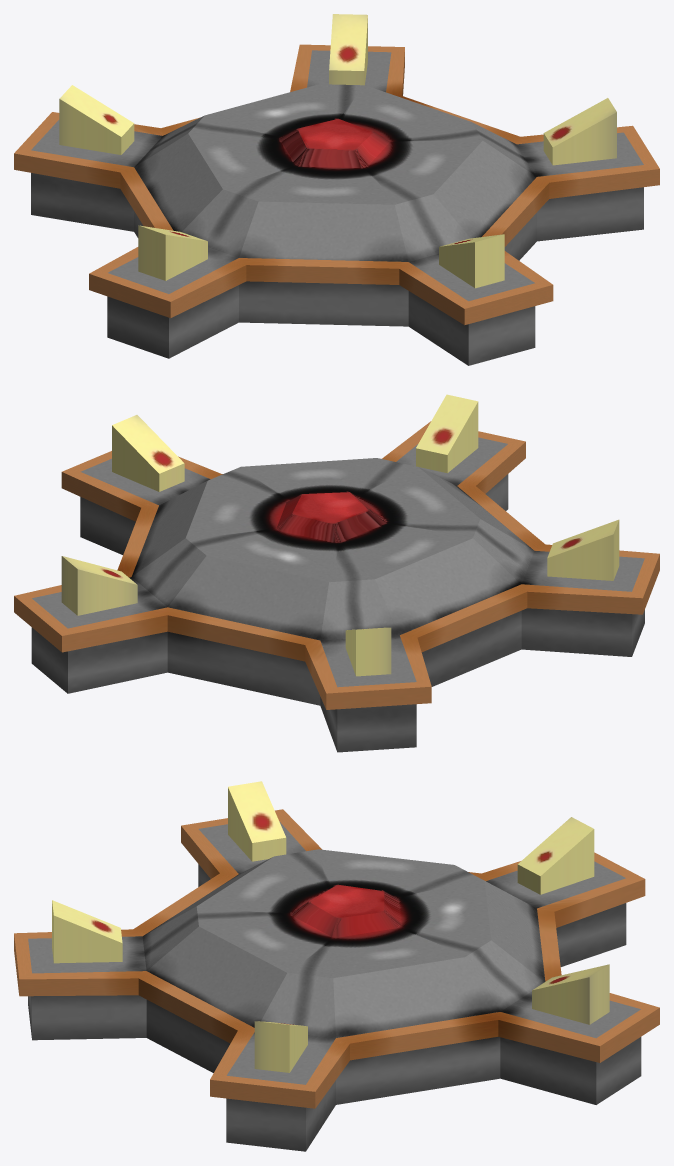
The model's file is SpawnPoint.FBX.
3 views of the same model, one above another, from view 1: azimuth 30°, elevation 25°; view 2: azimuth 150°, elevation 25°; view 3: azimuth 270°, elevation 25° (orthographic). The views are drawn at different scales.
Parts seen in each view (by area): view 1: Object001; view 2: Object001; view 3: Object001.
Part boxes in pixels (box(x1,y1,x2,y2)): Object001: box(14, 14, 659, 365); Object001: box(14, 394, 659, 752); Object001: box(14, 781, 659, 1151).
Bounding box in the file's own units: 232 × 43.89 × 224.
